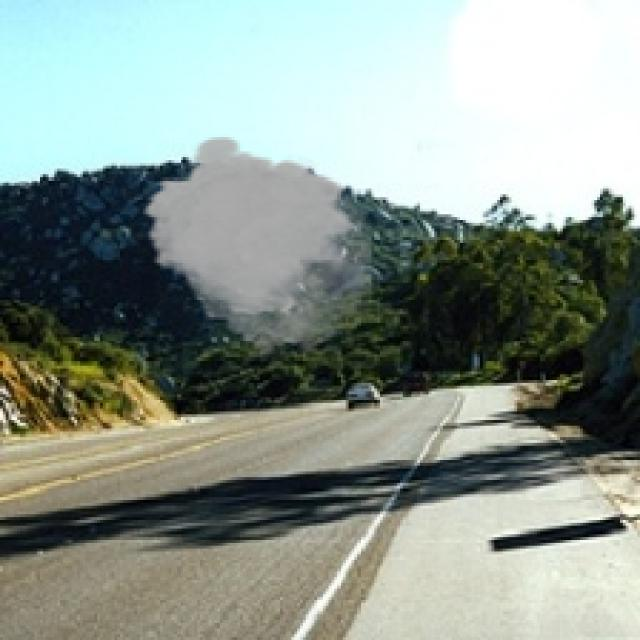smoke: (140, 134, 371, 363)
